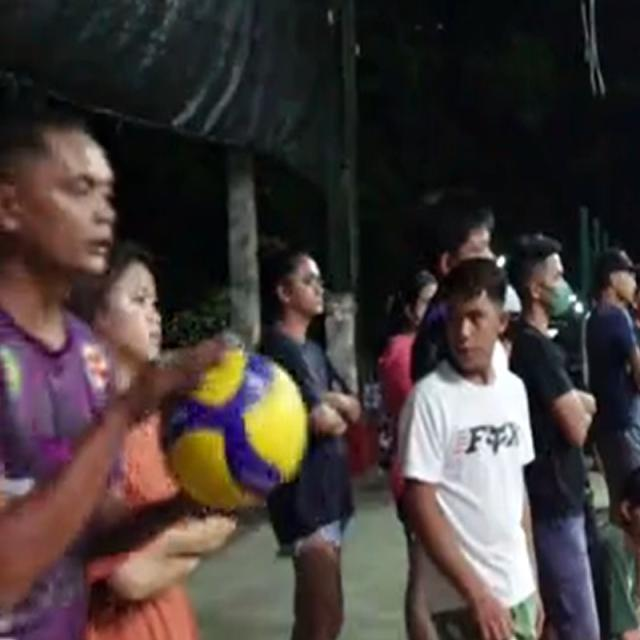volleyball: (159, 346, 307, 509)
